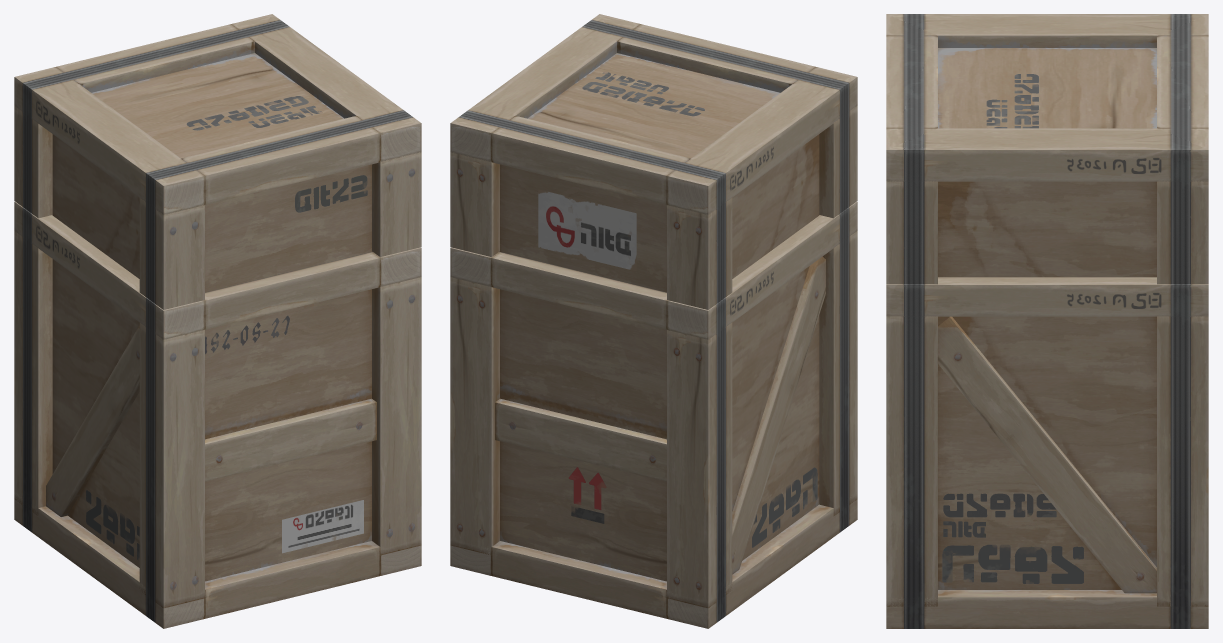
The model's file is P_WoodBox_02.obj.
3 views of the same model, side by side, from view 1: azimuth 30°, elevation 25°; view 2: azimuth 150°, elevation 25°; view 3: azimuth 270°, elevation 25° (orthographic). The views are drawn at different scales.
Bounding box in the file's own units: 0.8947 × 1.47 × 0.8961.
Materials: 1 (1 with a texture image).
